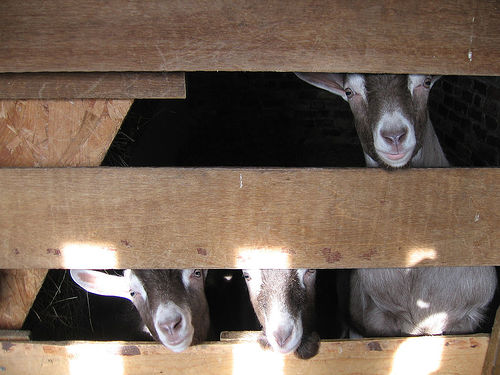goat: (290, 72, 500, 335), (65, 268, 212, 352), (239, 269, 318, 360)
